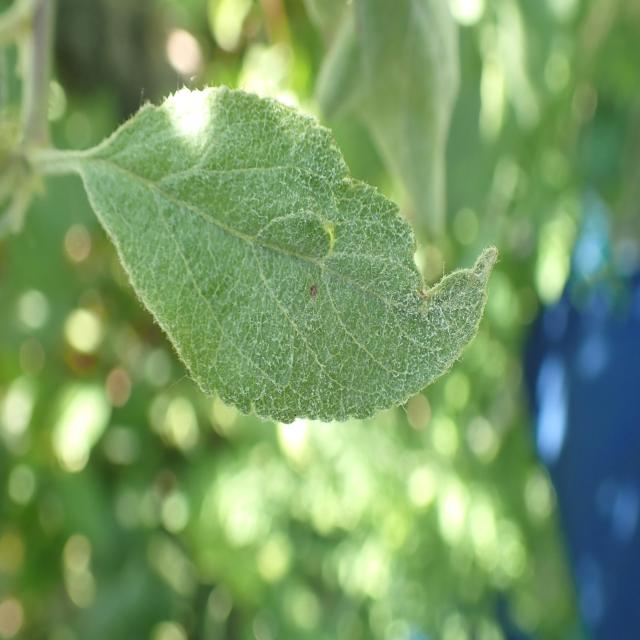Powdery_mildew: (77, 64, 502, 440)
